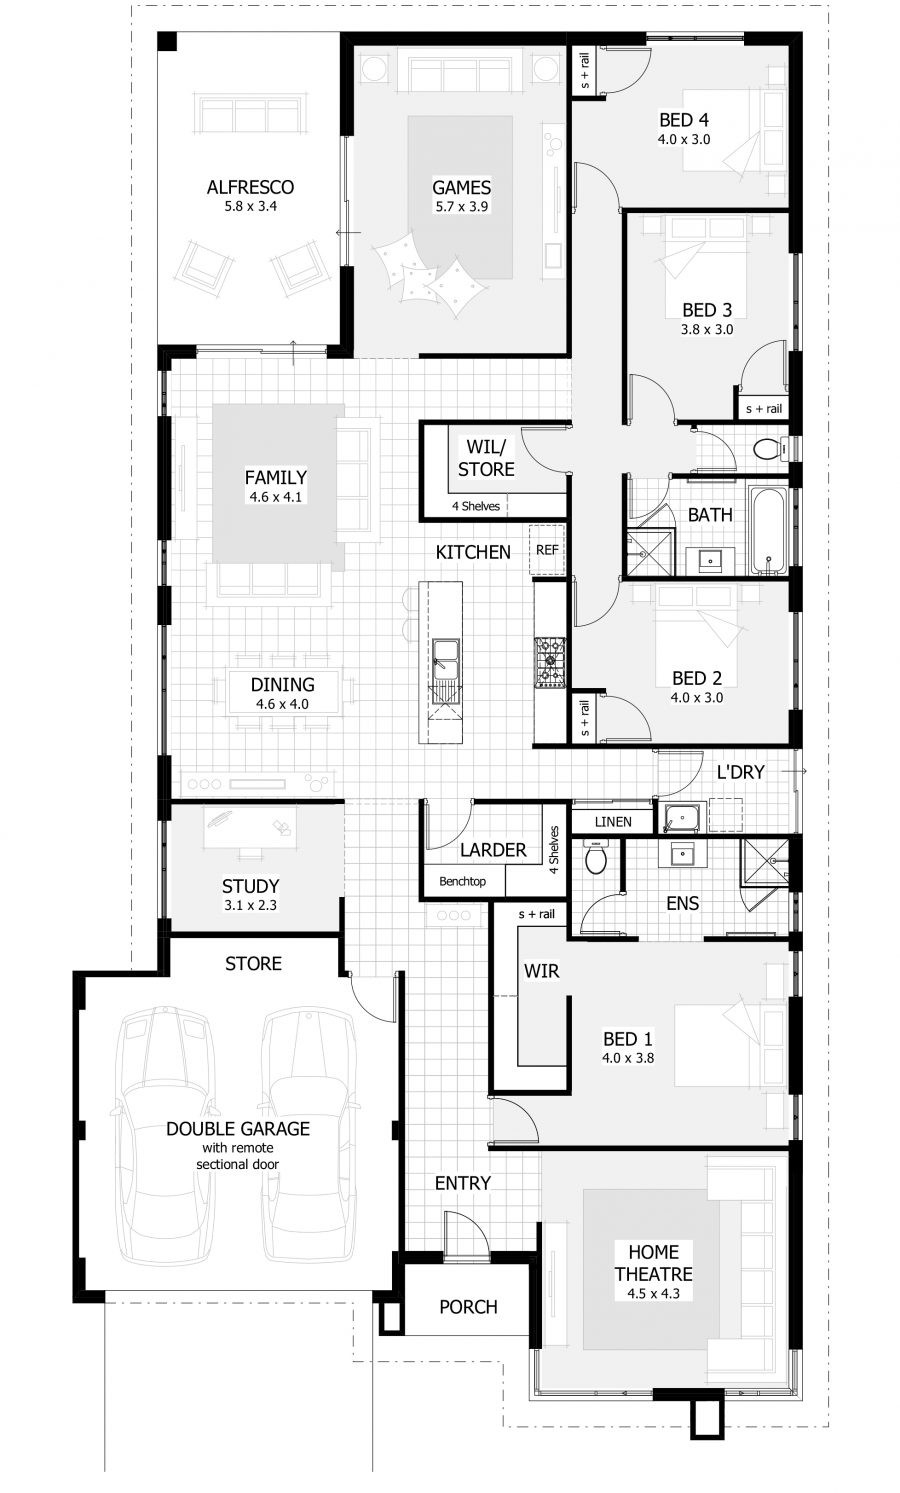door: (573, 155, 618, 205), (573, 585, 618, 635), (611, 45, 656, 95), (663, 749, 708, 799), (424, 807, 469, 857), (613, 692, 658, 742), (743, 335, 788, 385), (628, 365, 673, 415), (438, 1202, 483, 1252), (352, 982, 397, 1032), (515, 424, 560, 473), (497, 1098, 542, 1147), (577, 888, 621, 935), (700, 433, 738, 473), (732, 887, 778, 916)
room: (155, 338, 579, 810), (335, 27, 577, 363), (521, 1137, 805, 1404), (557, 933, 808, 1158), (562, 25, 805, 215), (562, 569, 809, 754), (615, 200, 811, 430), (561, 828, 809, 946), (150, 793, 347, 940), (618, 468, 813, 585), (416, 415, 575, 527), (414, 791, 573, 903), (658, 416, 813, 482)
